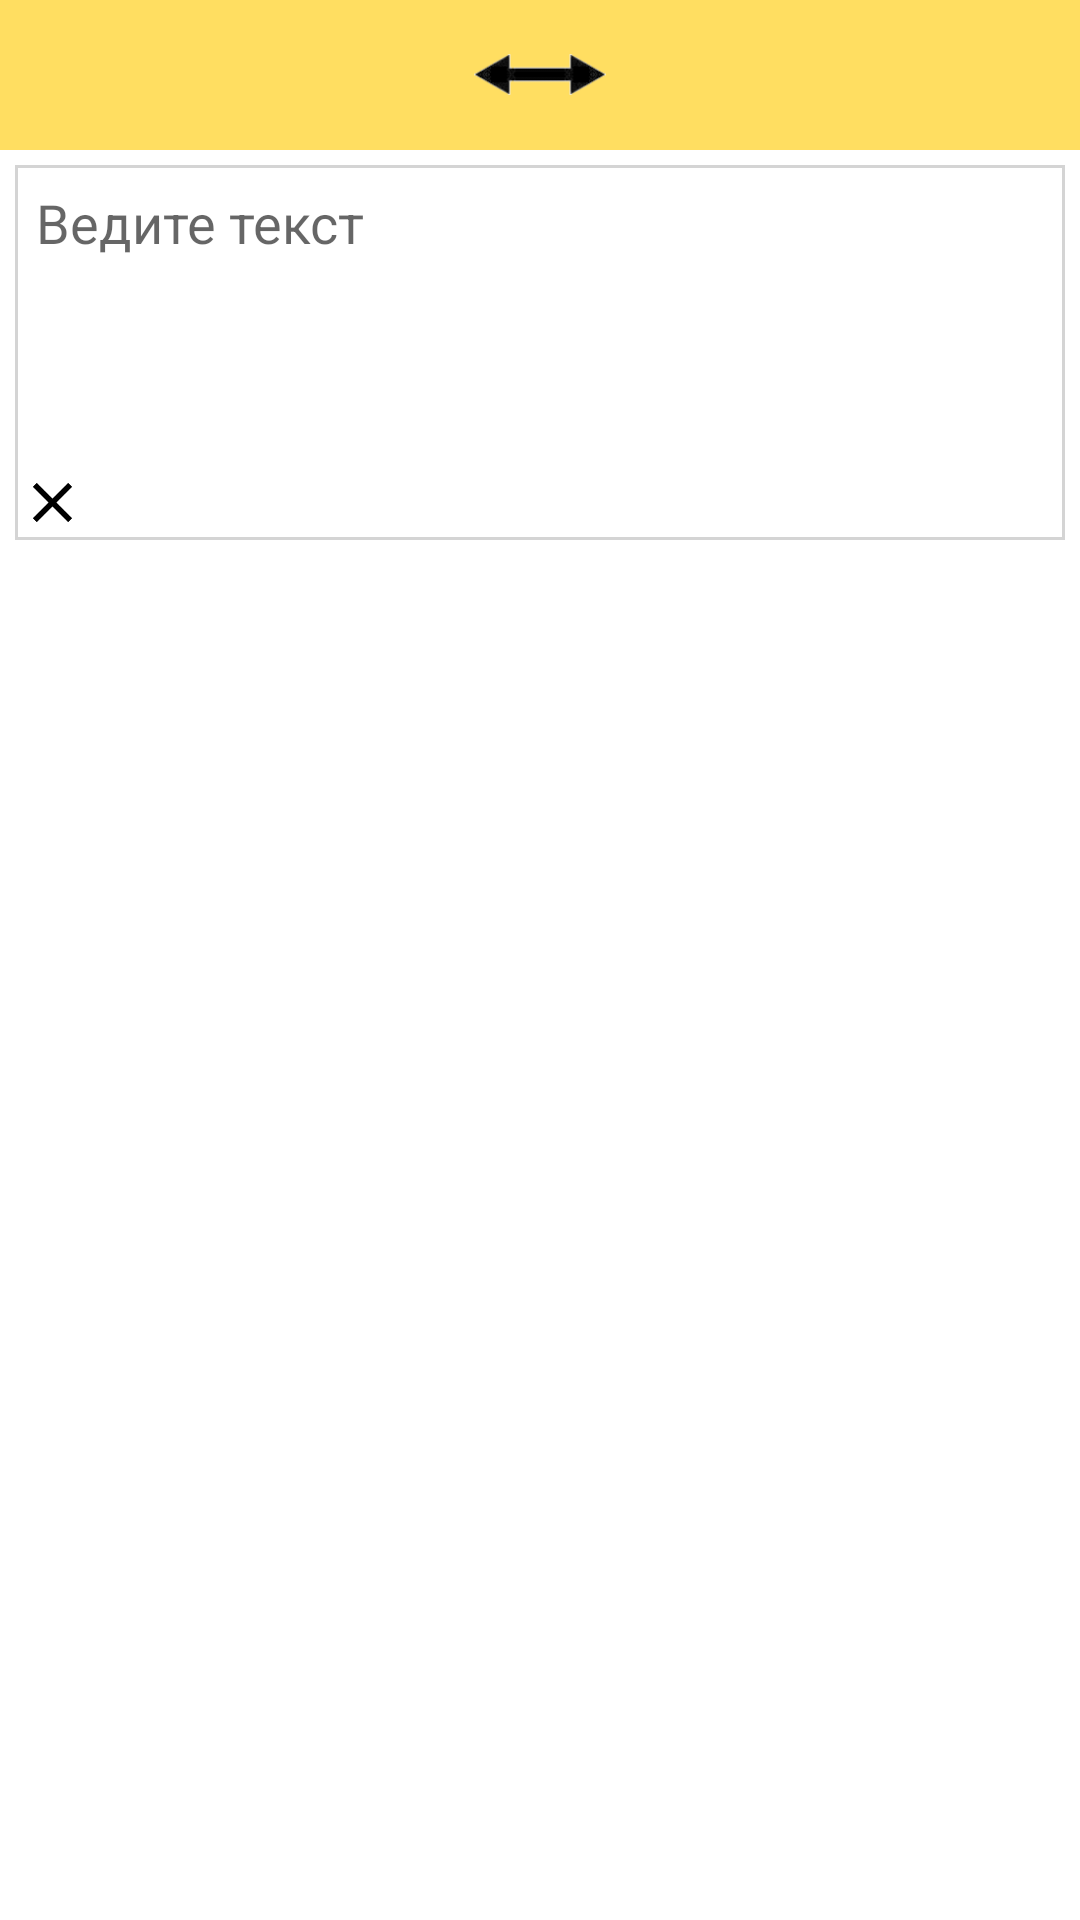

Icons on this 1080px x 1920px Android screen, each with the point to tap as point (x, y):
clear text: point (52, 502)
swape langs: point (540, 74)
